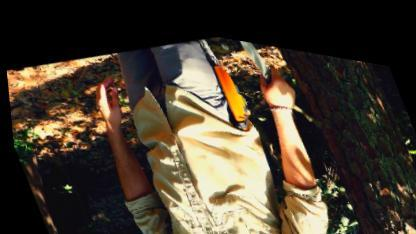knife: (234, 32, 294, 92)
